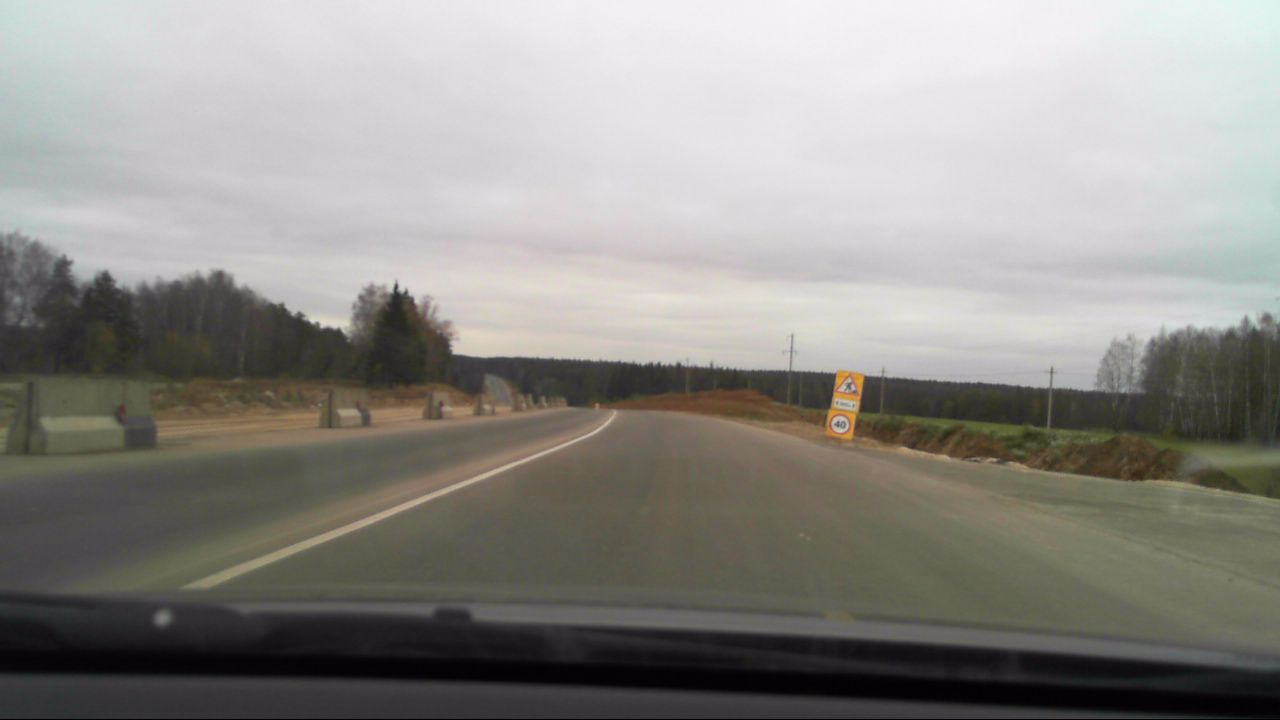speed_warning_40: (826, 412, 851, 434)
